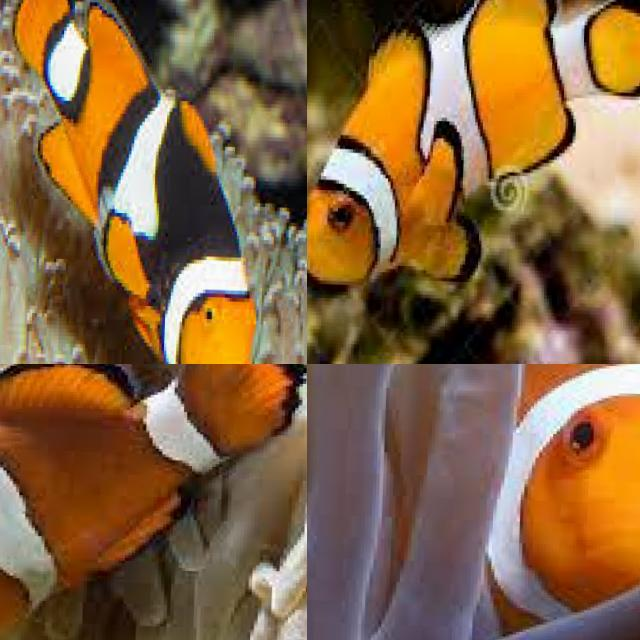Amphiprion-percula: (307, 0, 640, 334), (307, 0, 640, 331), (0, 0, 302, 364), (0, 364, 307, 640), (432, 364, 640, 640), (0, 364, 272, 483)
